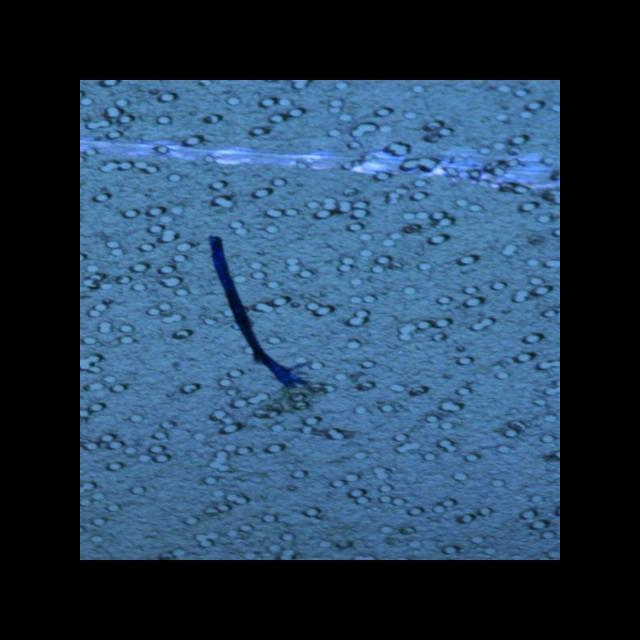Fibre: (178, 232, 336, 400)
